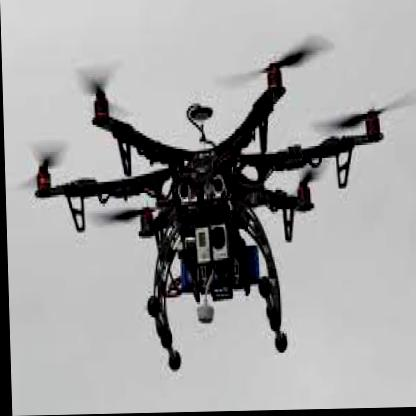UAS: (32, 62, 388, 374)
